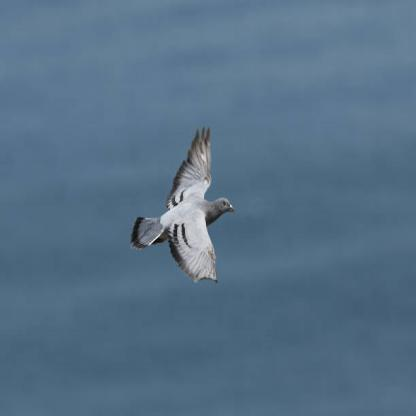Rock Pigeon: (127, 125, 233, 285)
